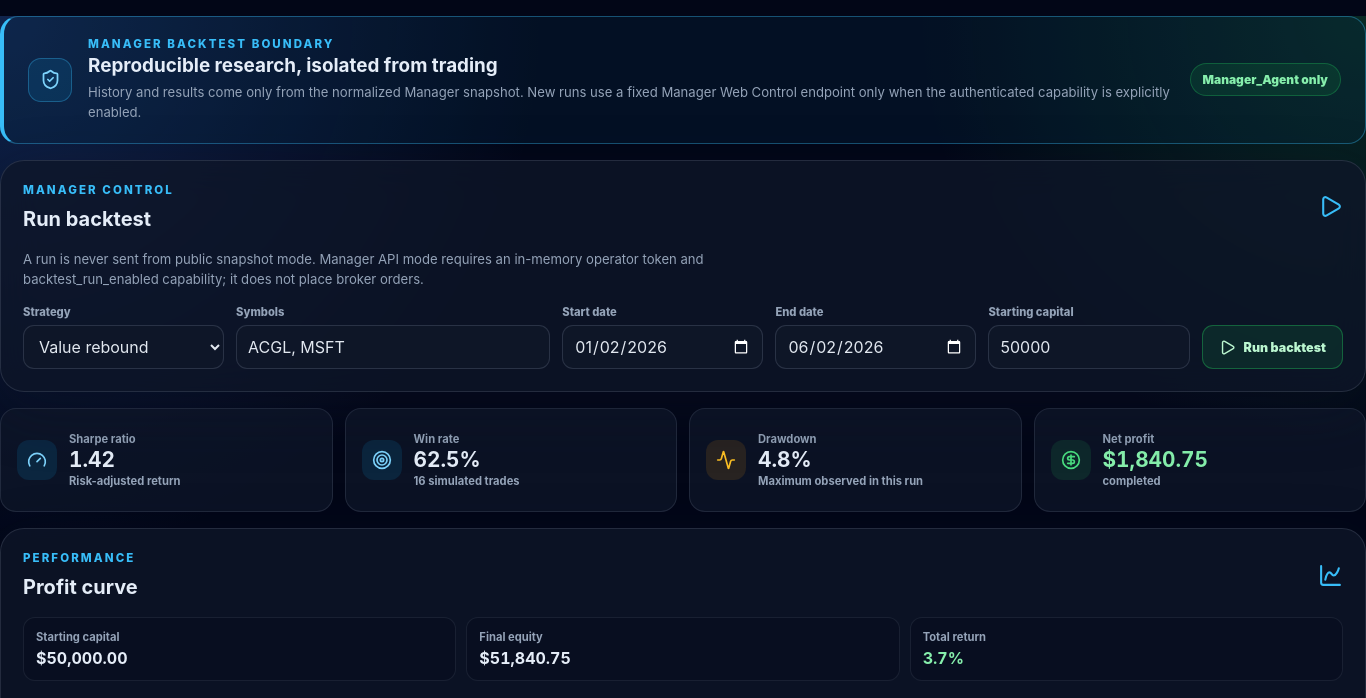
Backtest workspace › submits a normalized run only through an enabled Manager capability
This screenshot has width=1366, height=698.
Click the button "Run backtest". click: (1272, 347)
box: [1202,325,1343,369]
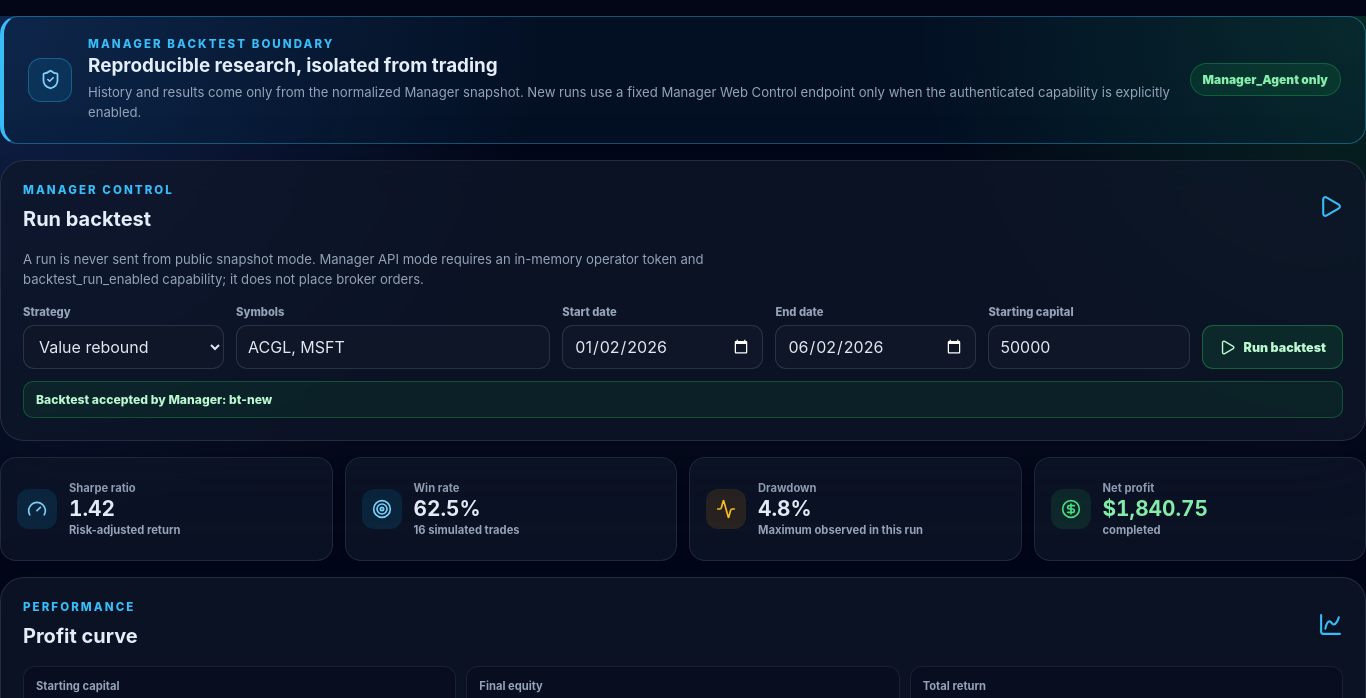
Expected: the message shows "bt-new", [36,392,272,407]
